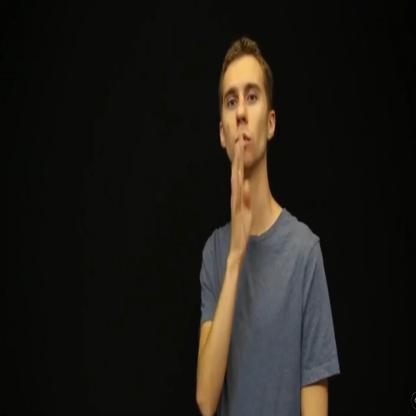Talk: (204, 37, 290, 267)
